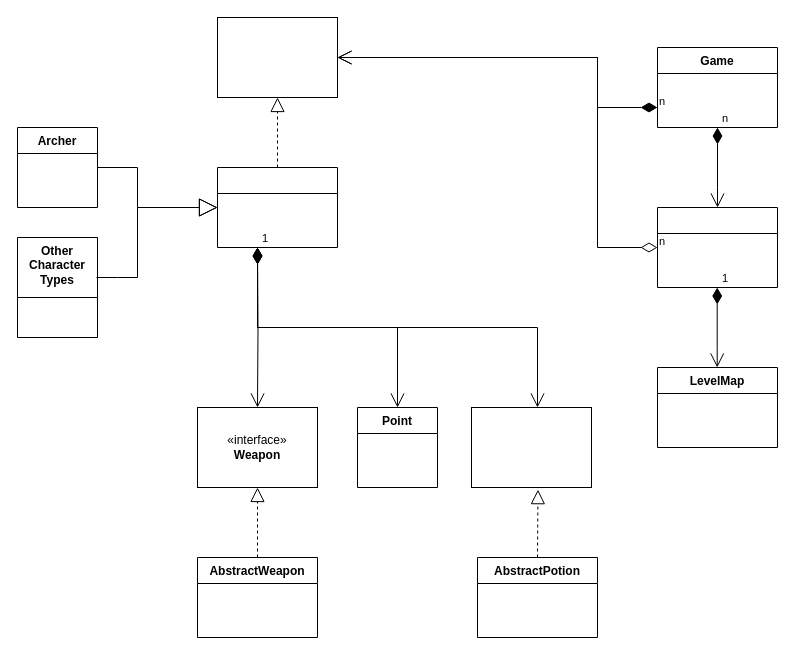
Some shapes in this 795 by 655 pixel diagram are drawn without their labels. Each missing label, with the centre of its shape:
AbstractCharacter: point 277,207
Level: point 717,247
«interface» Character: point 277,57
«interface» Potion: point 531,447
